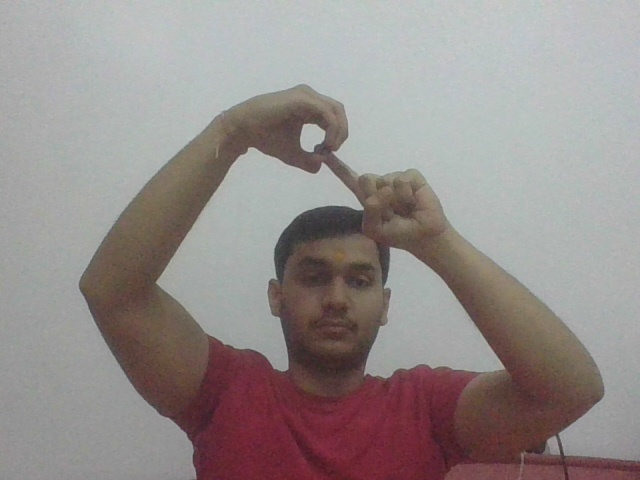Q: (277, 81, 408, 209)
